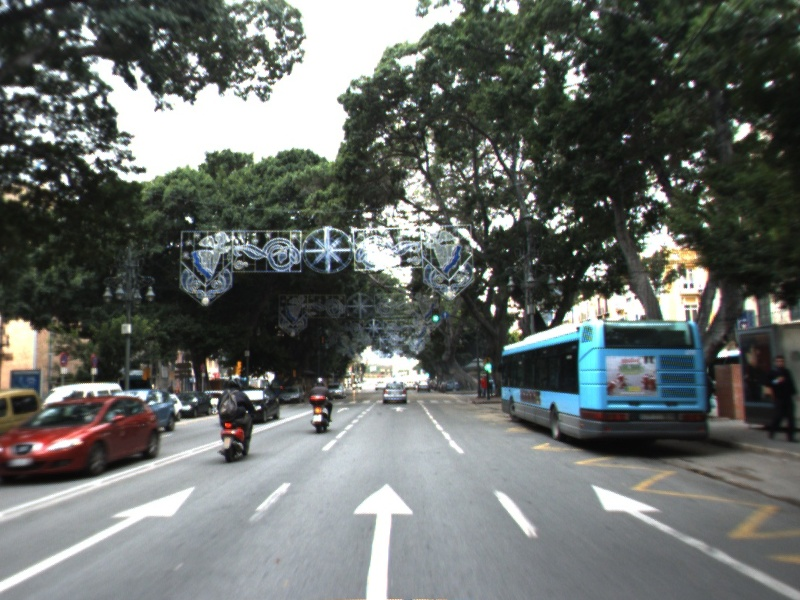STRAIGHT: (586, 478, 800, 600), (1, 482, 199, 592), (348, 478, 418, 600), (389, 404, 410, 413), (335, 405, 351, 414)
